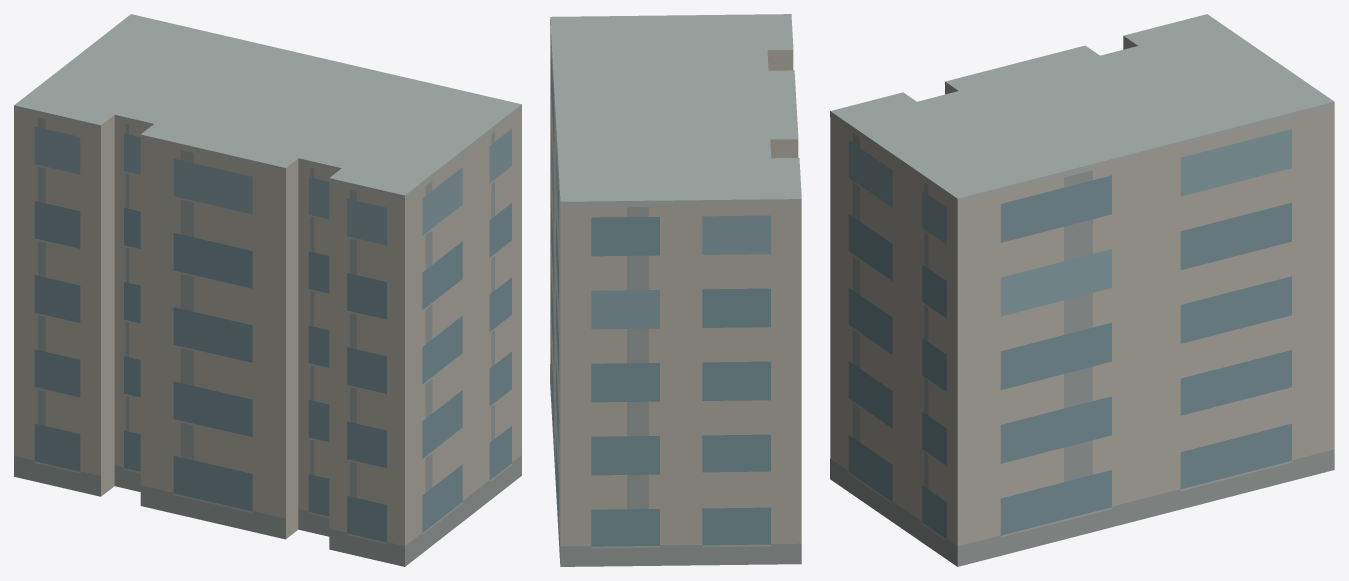
The model's file is survey-upis-32863484.glb.
The picture shows the model from 3 angles, left to right: view 1: azimuth 30°, elevation 25°; view 2: azimuth 150°, elevation 25°; view 3: azimuth 270°, elevation 25°; orthographic projection.
Visible parts, largest first — view 1: survey-upis-32863484.tmp; view 2: survey-upis-32863484.tmp; view 3: survey-upis-32863484.tmp.
Part boxes in pixels (left/top/right/bottom): survey-upis-32863484.tmp: left=14, top=14, right=521, bottom=566; survey-upis-32863484.tmp: left=550, top=14, right=801, bottom=566; survey-upis-32863484.tmp: left=830, top=14, right=1334, bottom=566.
Bounding box in the file's own units: 15.39 × 14.3 × 17.77.
